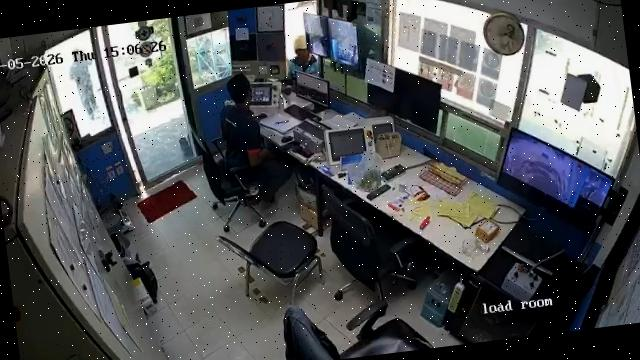Head: (223, 68, 256, 102)
People: (208, 64, 296, 204)
Phone: (253, 112, 268, 120)
